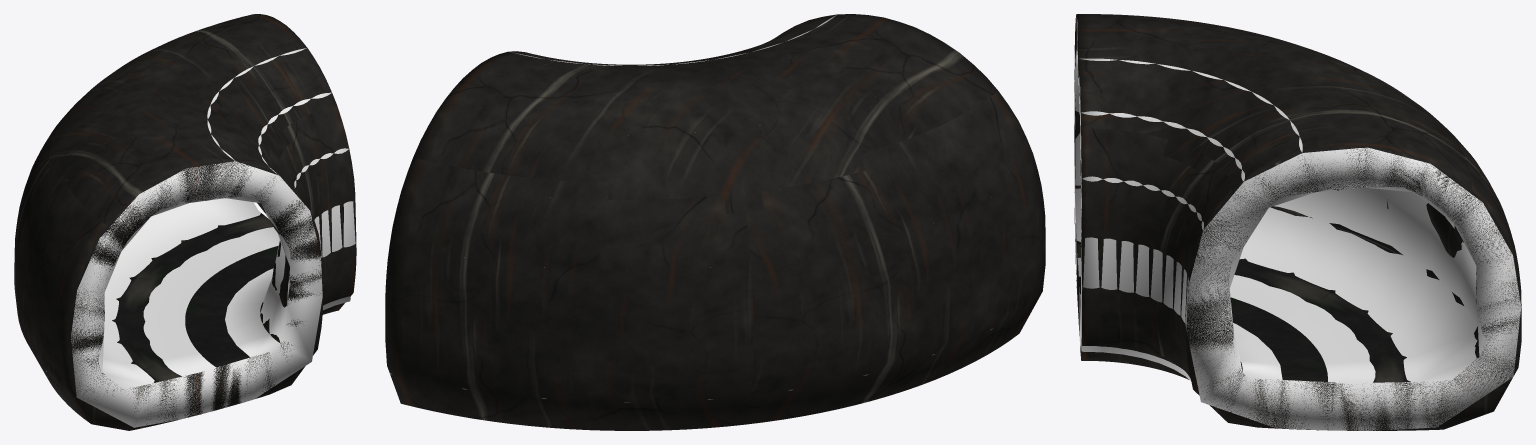
File: CAVE_Tunnel_Bend.fbx
The picture shows the model from 3 angles, left to right: view 1: azimuth 30°, elevation 25°; view 2: azimuth 150°, elevation 25°; view 3: azimuth 270°, elevation 25°; orthographic projection. The views are drawn at different scales.
Parts seen in each view (by area): view 1: CAVE_Tunnel_Bend_LOD0, CAVE_Tunnel_Bend_COL; view 2: CAVE_Tunnel_Bend_LOD0; view 3: CAVE_Tunnel_Bend_LOD0, CAVE_Tunnel_Bend_COL.
Part boxes in pixels (x1=…): CAVE_Tunnel_Bend_LOD0: x1=14, y1=14, x2=356, y2=430; CAVE_Tunnel_Bend_COL: x1=46, y1=48, x2=355, y2=427; CAVE_Tunnel_Bend_LOD0: x1=385, y1=14, x2=1045, y2=430; CAVE_Tunnel_Bend_LOD0: x1=1074, y1=14, x2=1521, y2=430; CAVE_Tunnel_Bend_COL: x1=1074, y1=17, x2=1521, y2=430.
Size of what is drawn, in the model's own units: 9.98 by 7 by 9.98.
